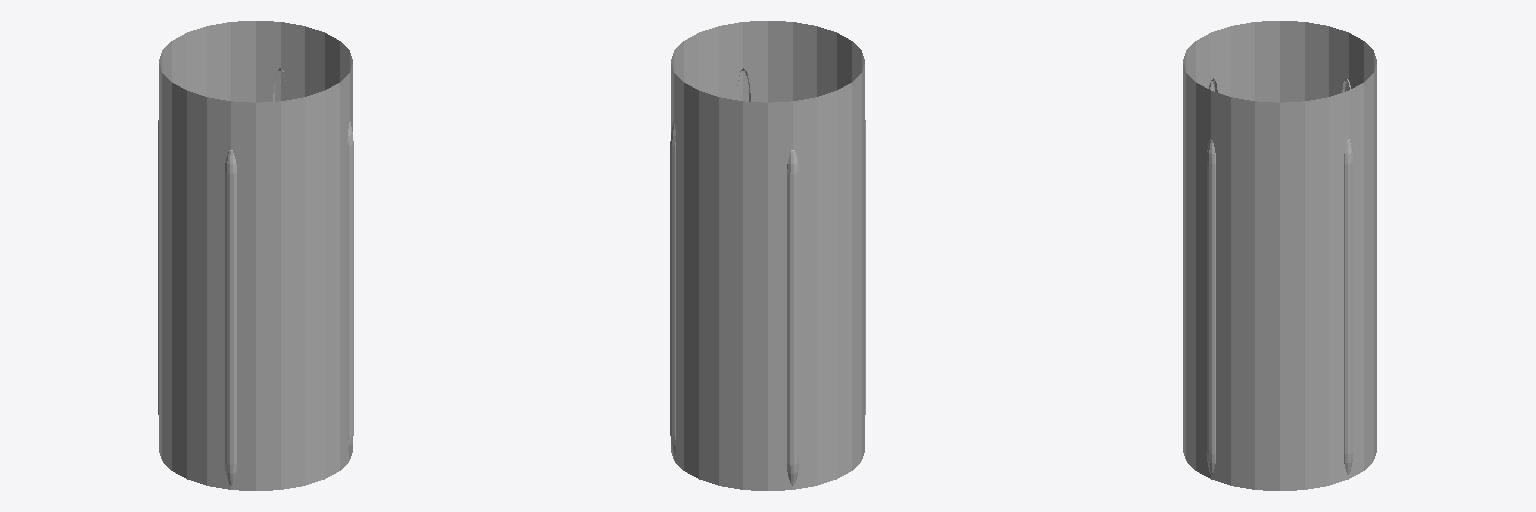
Rendered from titan2_stage1_fuel2.obj.
The picture shows the model from 3 angles: view 1: azimuth 30°, elevation 25°; view 2: azimuth 150°, elevation 25°; view 3: azimuth 270°, elevation 25°; orthographic projection.
Visible parts, largest first — view 1: Titan2_Stage1_Fuel2_Tank Titan2_Stage1_Fuel3; view 2: Titan2_Stage1_Fuel2_Tank Titan2_Stage1_Fuel3; view 3: Titan2_Stage1_Fuel2_Tank Titan2_Stage1_Fuel3.
Boxes of the visible parts, box(x1,y1,x2,y2) form: Titan2_Stage1_Fuel2_Tank Titan2_Stage1_Fuel3: box(158, 21, 353, 490); Titan2_Stage1_Fuel2_Tank Titan2_Stage1_Fuel3: box(670, 21, 865, 490); Titan2_Stage1_Fuel2_Tank Titan2_Stage1_Fuel3: box(1183, 21, 1376, 490).
Bounding box in the file's own units: 188 × 413 × 187.